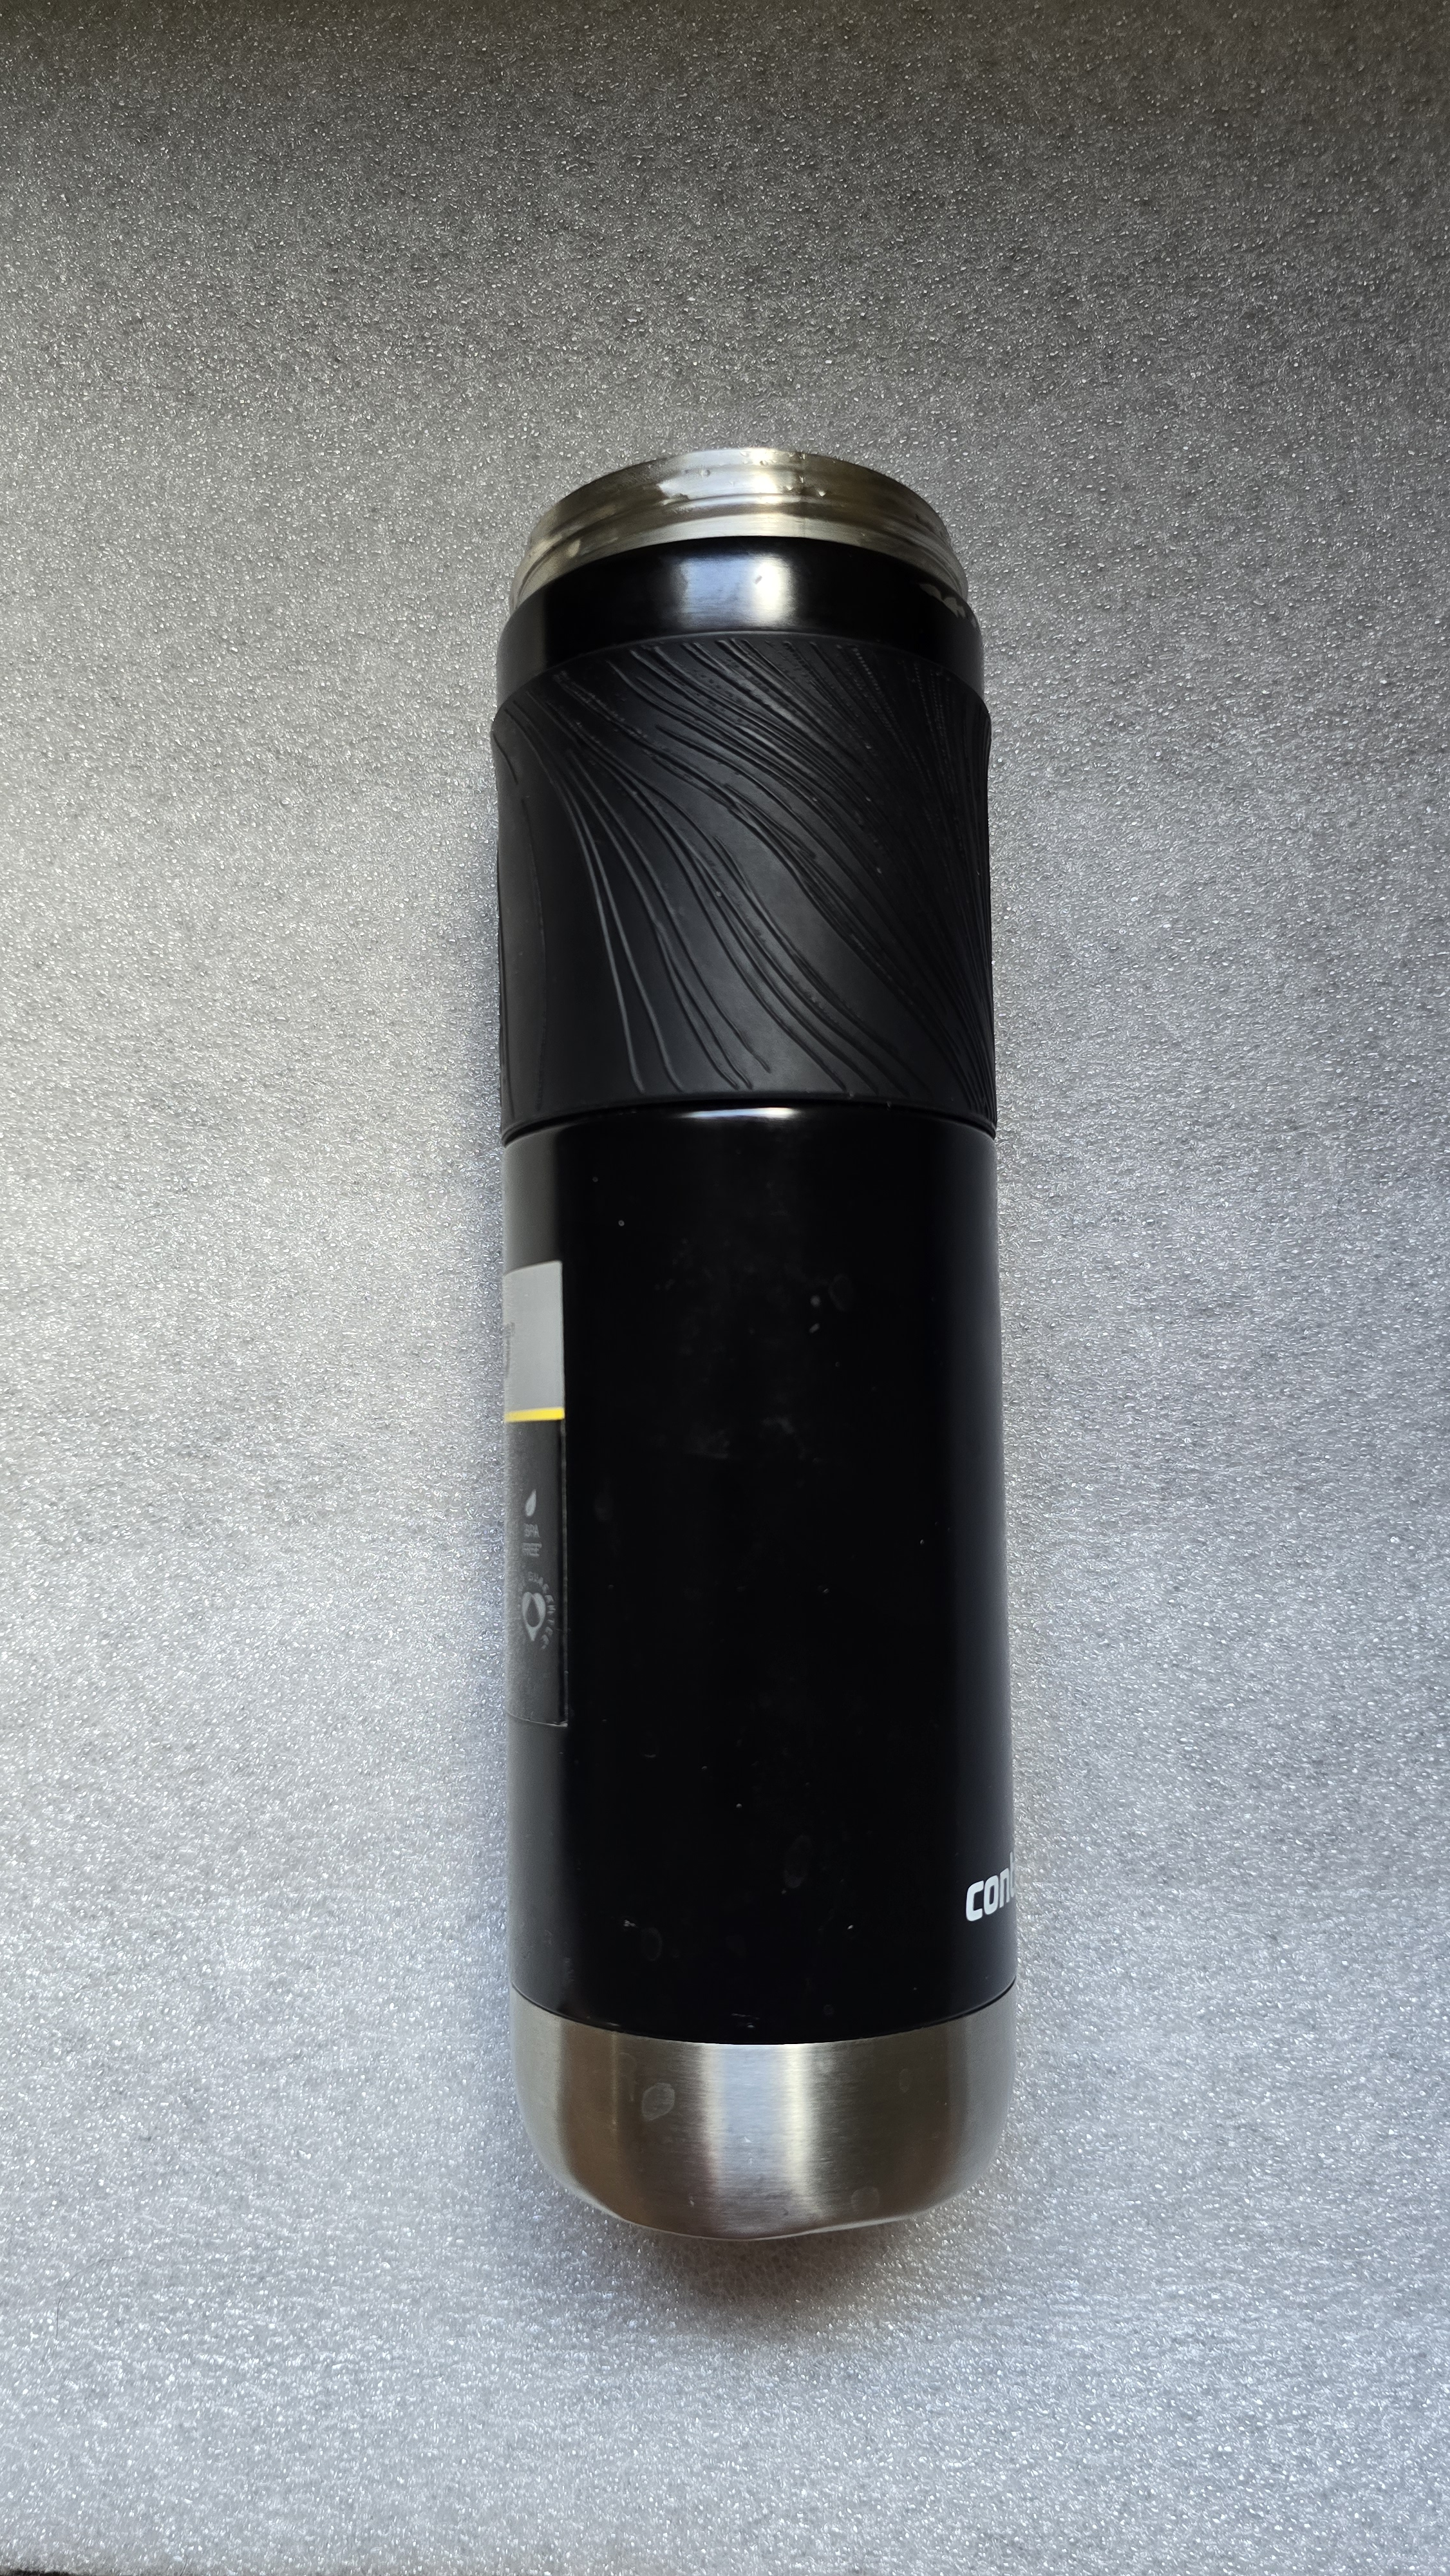bottle: (433, 437, 1082, 2208)
